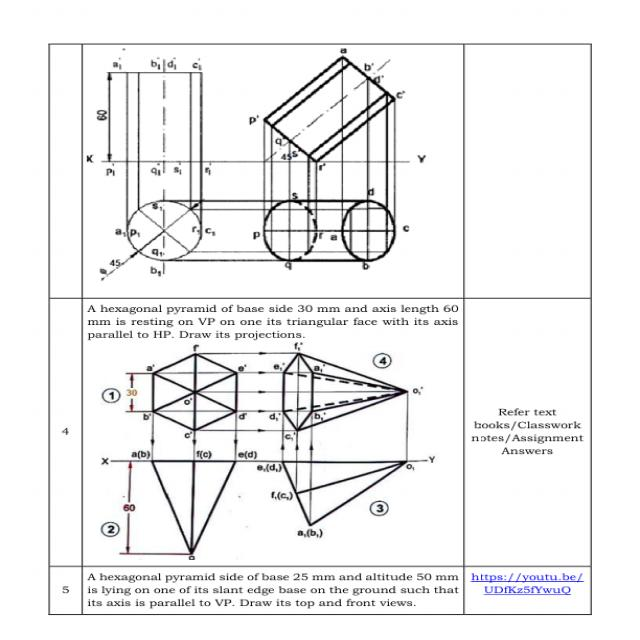Drawings: (80, 46, 442, 290), (82, 338, 448, 565)
